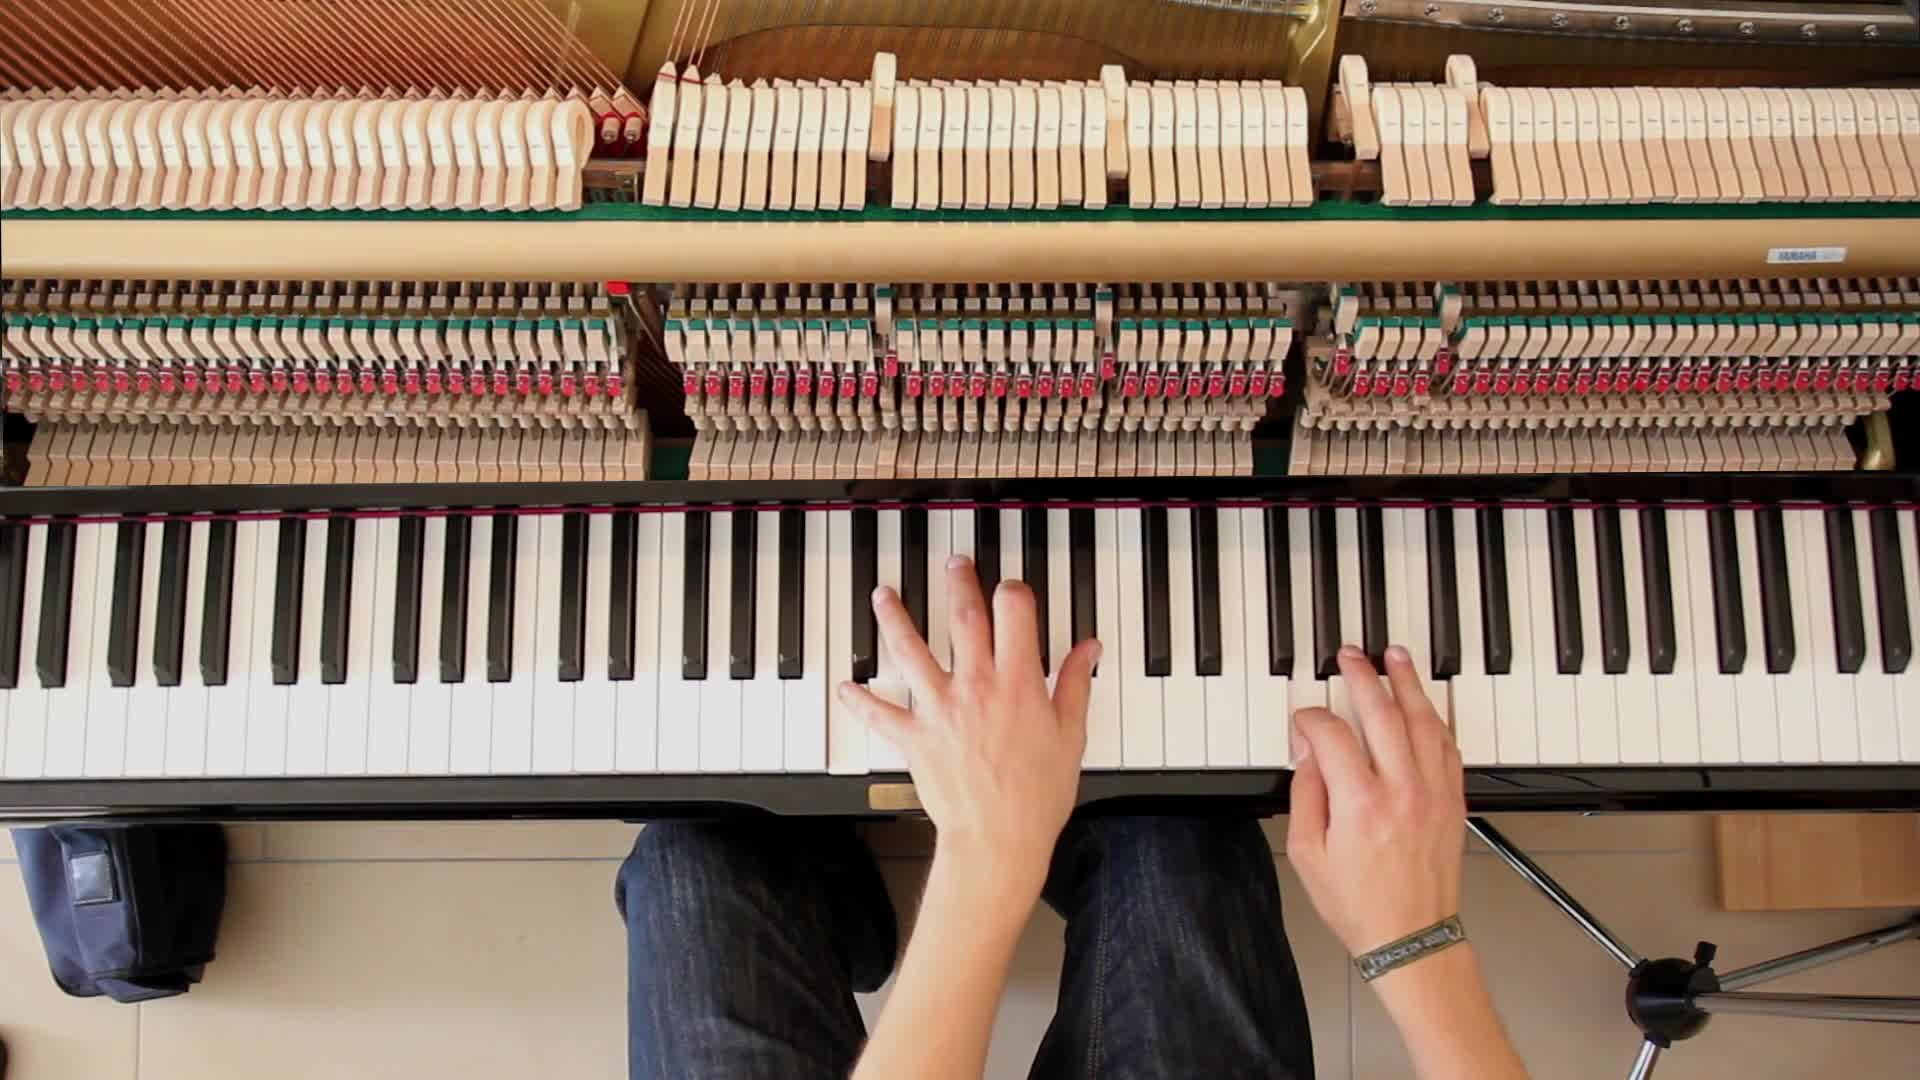left: (831, 547, 1105, 843)
right: (1283, 640, 1474, 930)
